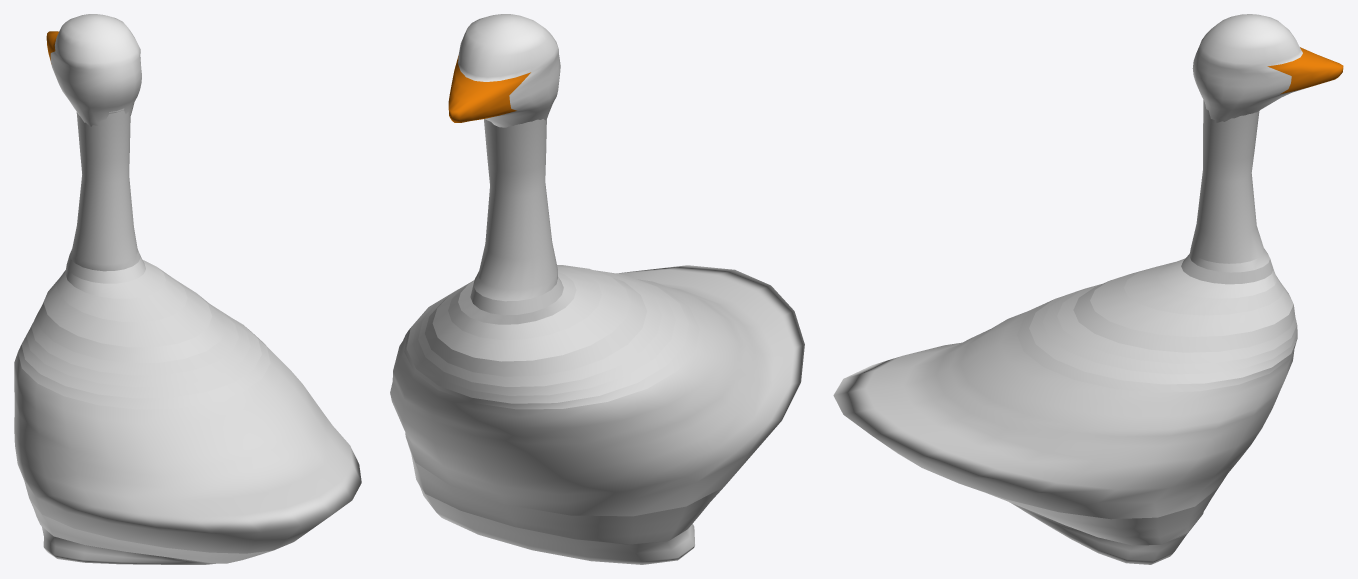
Rendered from goose.fbx.
The picture shows the model from 3 angles, left to right: view 1: azimuth 30°, elevation 25°; view 2: azimuth 150°, elevation 25°; view 3: azimuth 270°, elevation 25°; orthographic projection. The views are drawn at different scales.
Parts seen in each view (by area): view 1: pSphere2; view 2: pSphere2; view 3: pSphere2.
Part boxes in pixels (<box>): pSphere2: <box>14,14,361,564</box>; pSphere2: <box>390,14,804,564</box>; pSphere2: <box>833,14,1343,564</box>.
Size of the model in its own units: 2.19 by 3.58 by 3.33.
